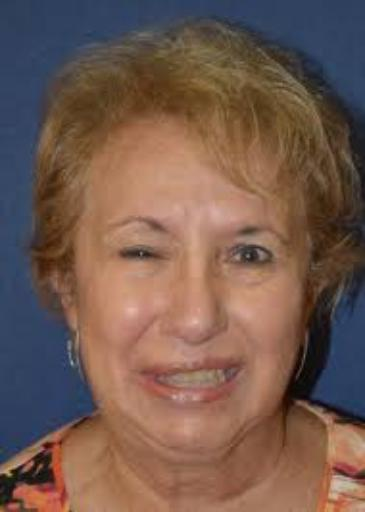left_eye: (222, 246, 277, 273)
left_lip_corner: (233, 355, 250, 375)
right_eye: (116, 245, 168, 267)
right_lip_corner: (132, 364, 152, 386)
